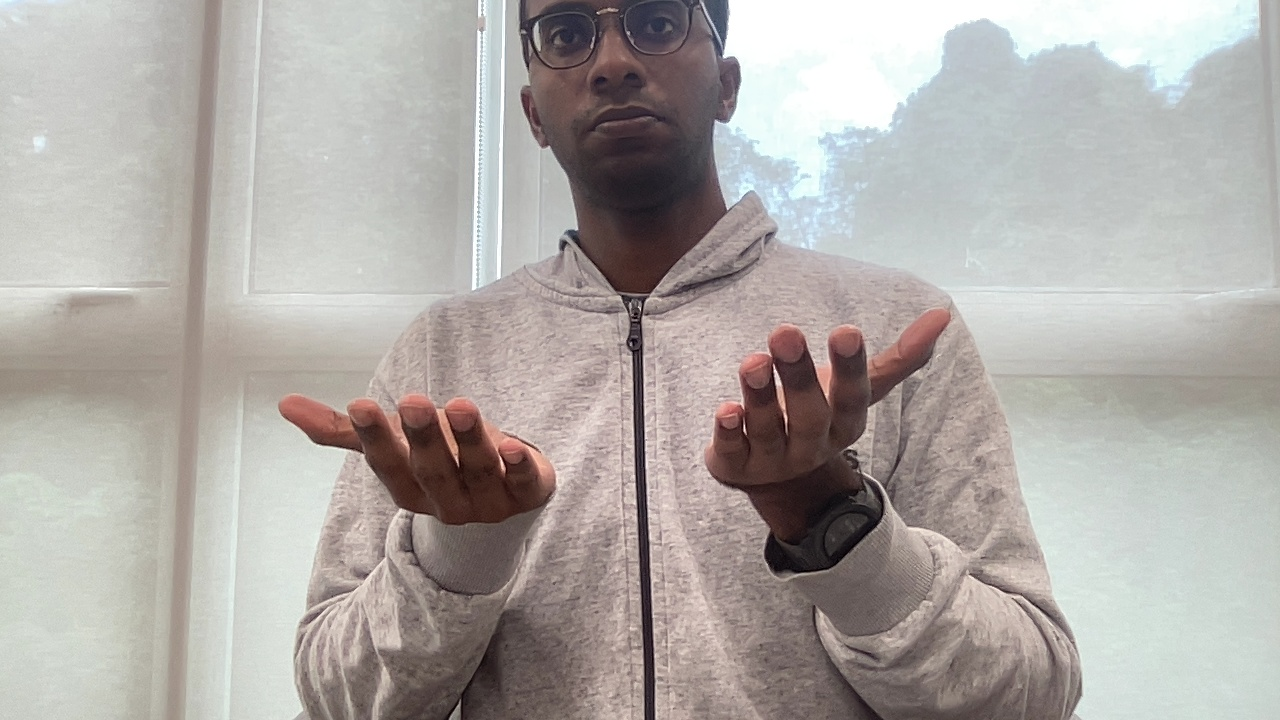give: (262, 298, 963, 540)
